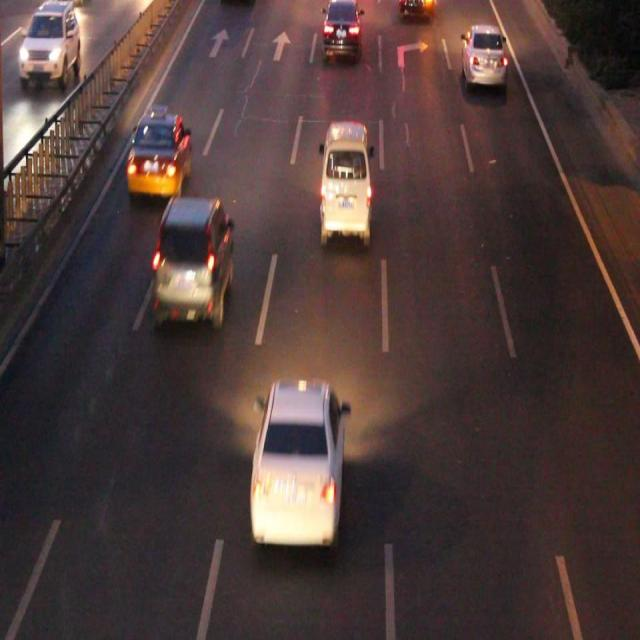car: (253, 382, 342, 544), (156, 197, 231, 320), (130, 114, 190, 194), (461, 26, 504, 84), (322, 1, 360, 55), (399, 2, 433, 15)
truck: (322, 122, 368, 238)
